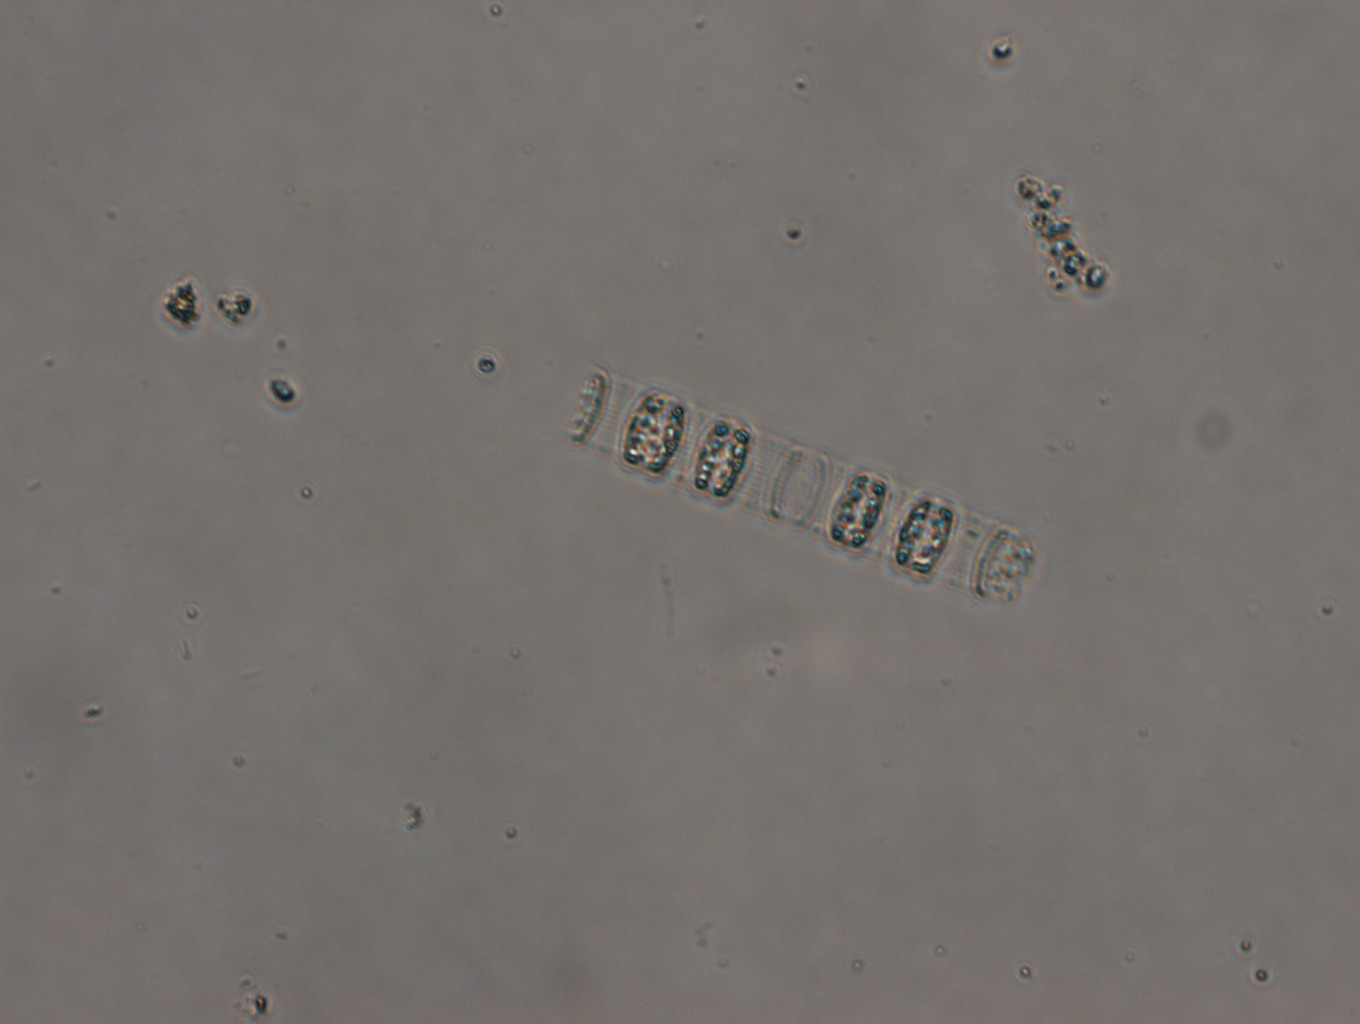skeletonema: (566, 362, 1037, 605)
